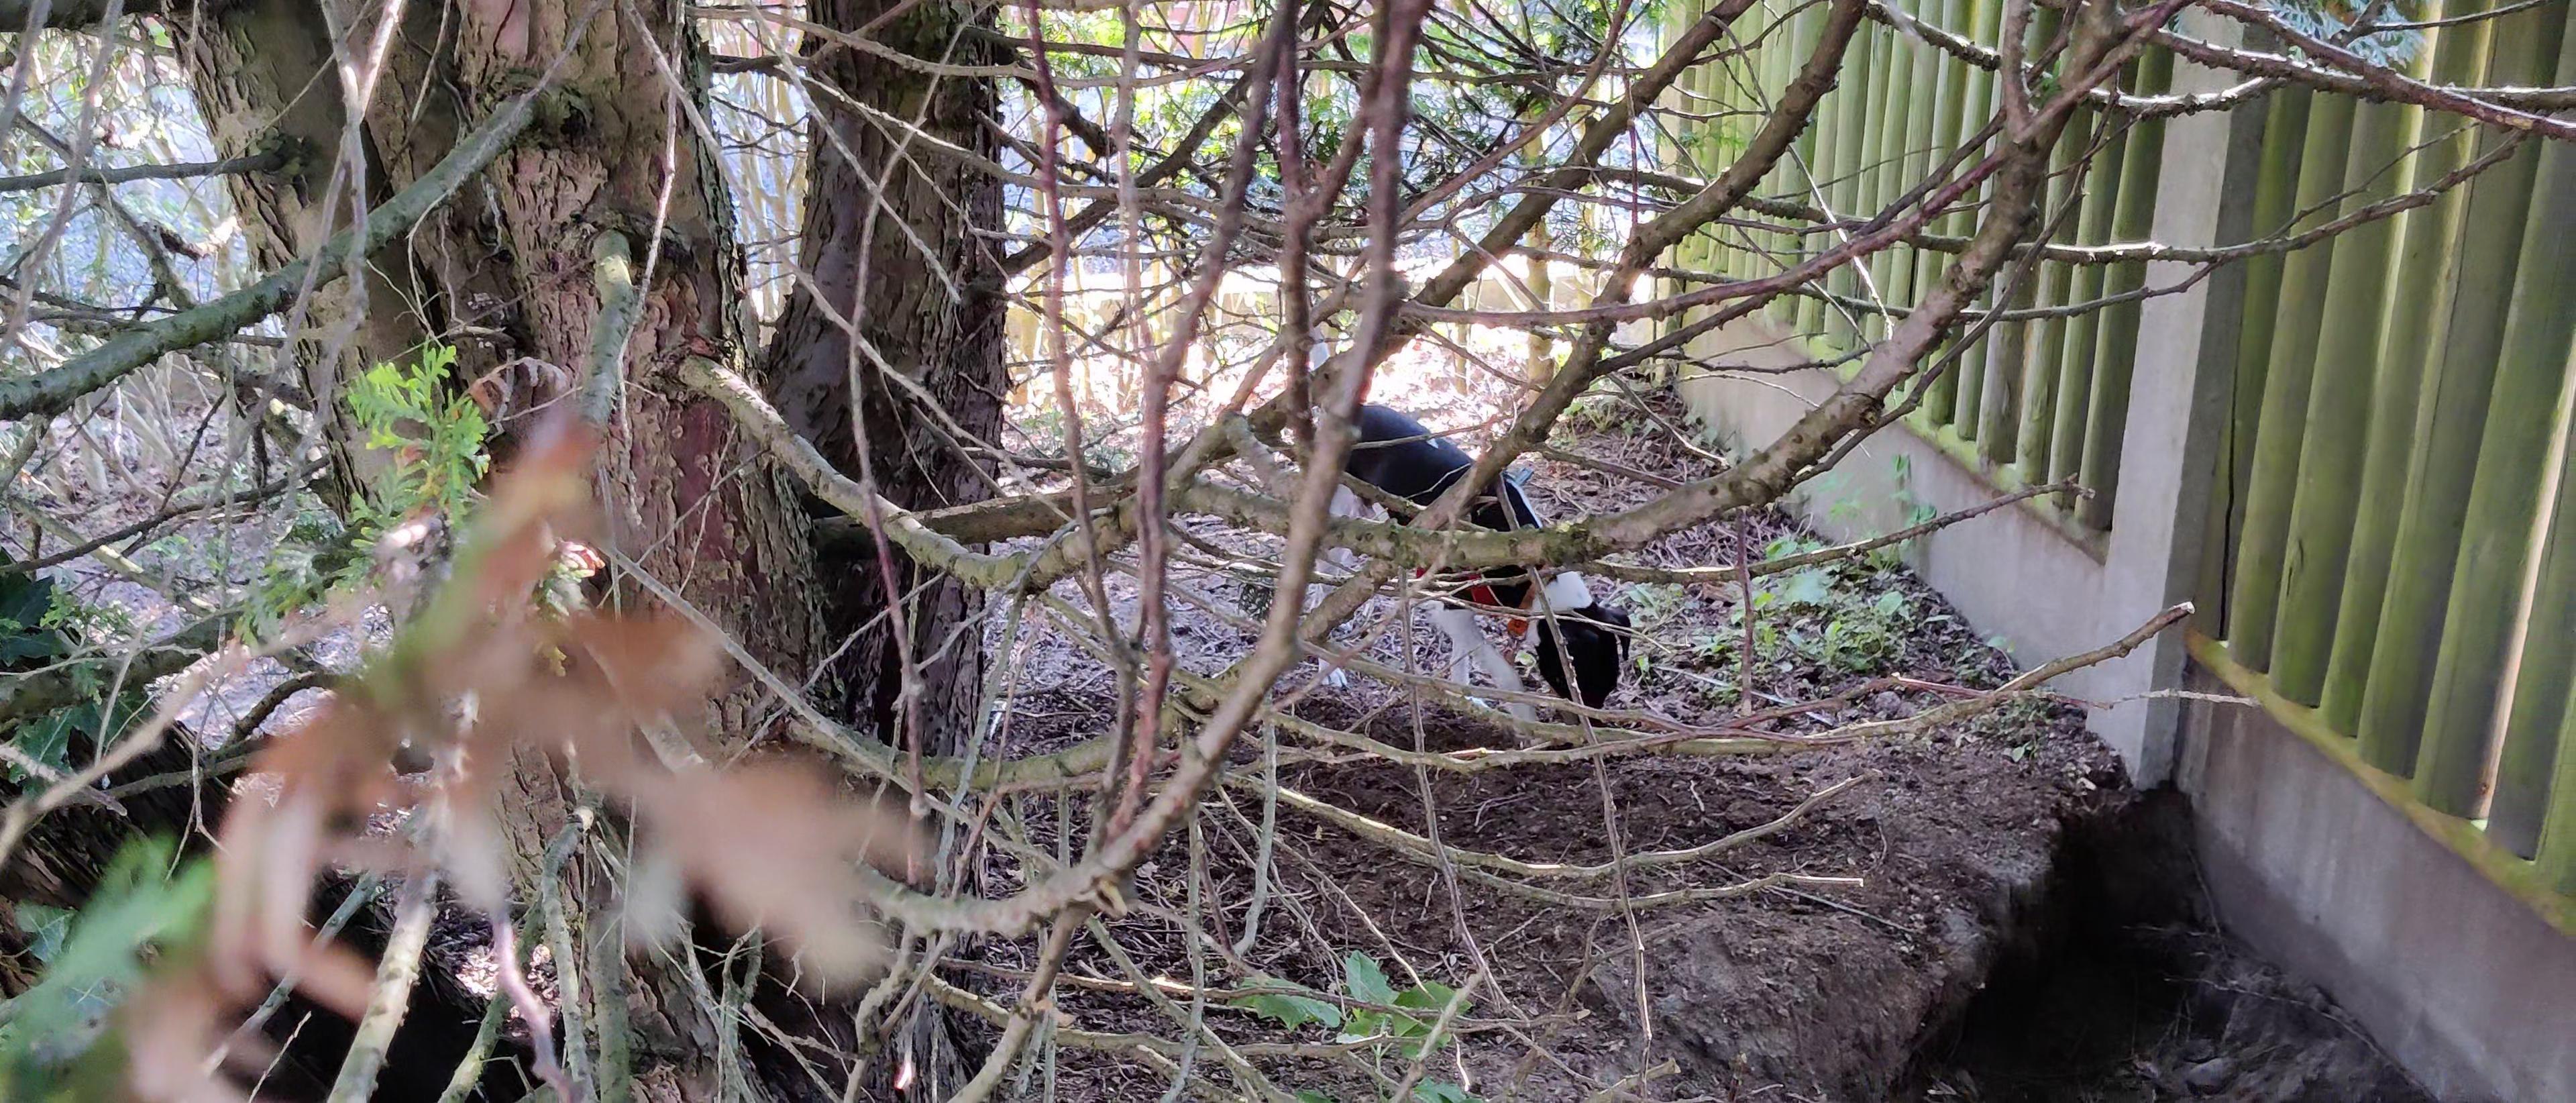Dog: (1268, 284, 1643, 756)
